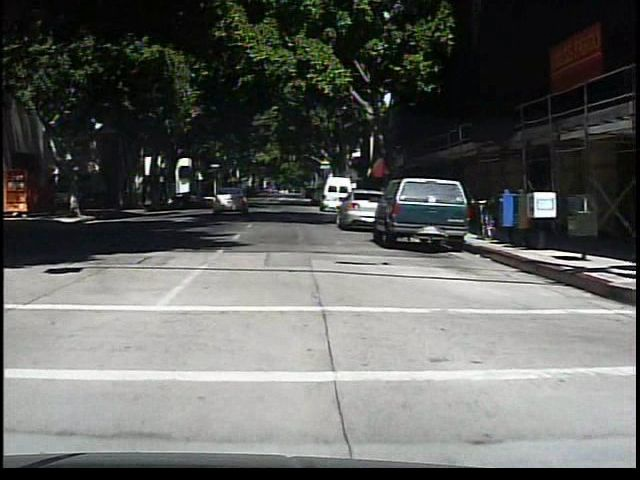person: (62, 179, 79, 219), (294, 180, 309, 206)
